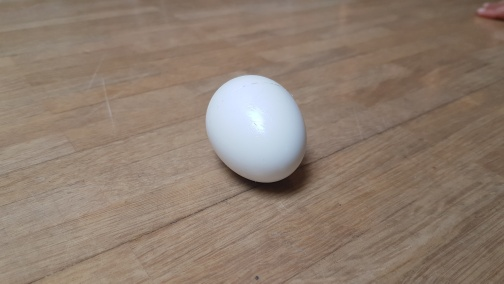egg: (203, 72, 308, 184)
